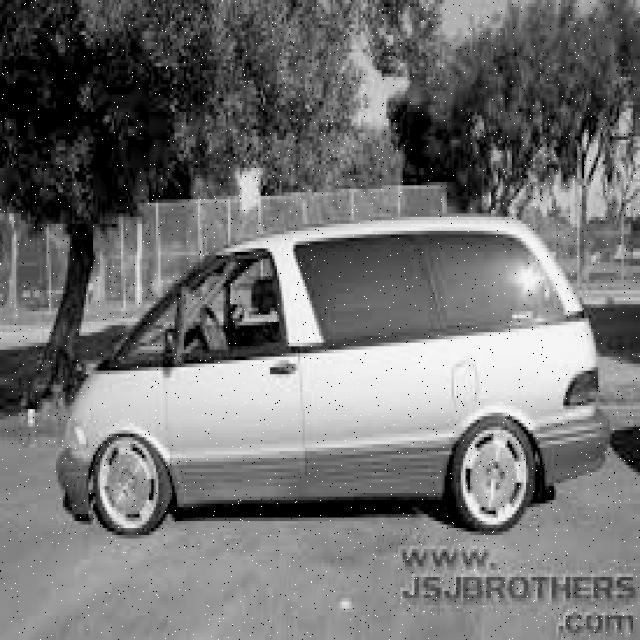Van: (56, 217, 612, 542)
